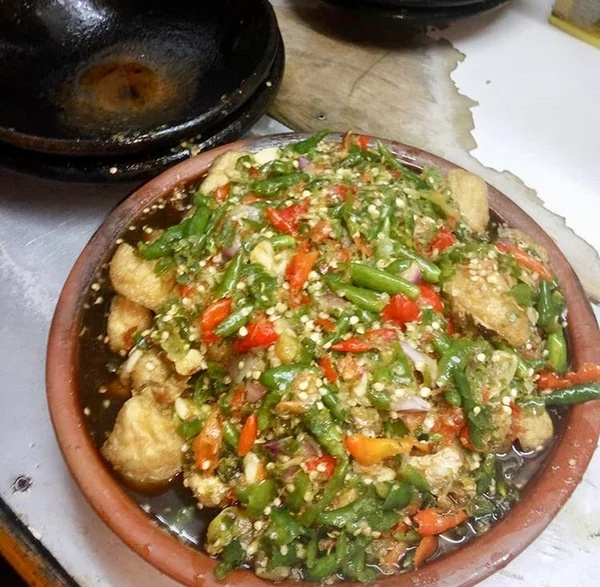tahu_gejrot: (103, 130, 576, 582)
